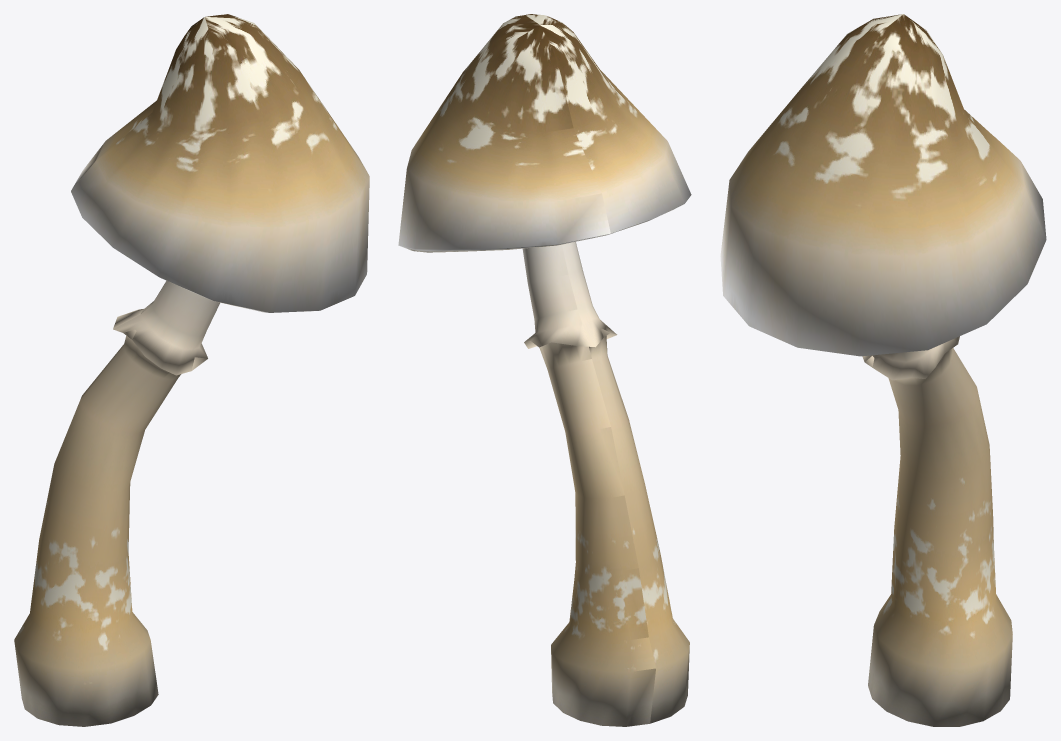
Rendered from mushrooms01_med.glb.
3 renders of one model, left to right at view 1: azimuth 30°, elevation 25°; view 2: azimuth 150°, elevation 25°; view 3: azimuth 270°, elevation 25°, orthographic. The views are drawn at different scales.
Visible parts, largest first — view 1: Mushroom_0; view 2: Mushroom_0; view 3: Mushroom_0.
Part boxes in pixels (x1,y1,x2,y2): Mushroom_0: [14, 14, 369, 726]; Mushroom_0: [398, 14, 691, 726]; Mushroom_0: [720, 14, 1046, 726].
Bounding box in the file's own units: 149 × 322 × 129.
Materials: 1 (1 with a texture image).
